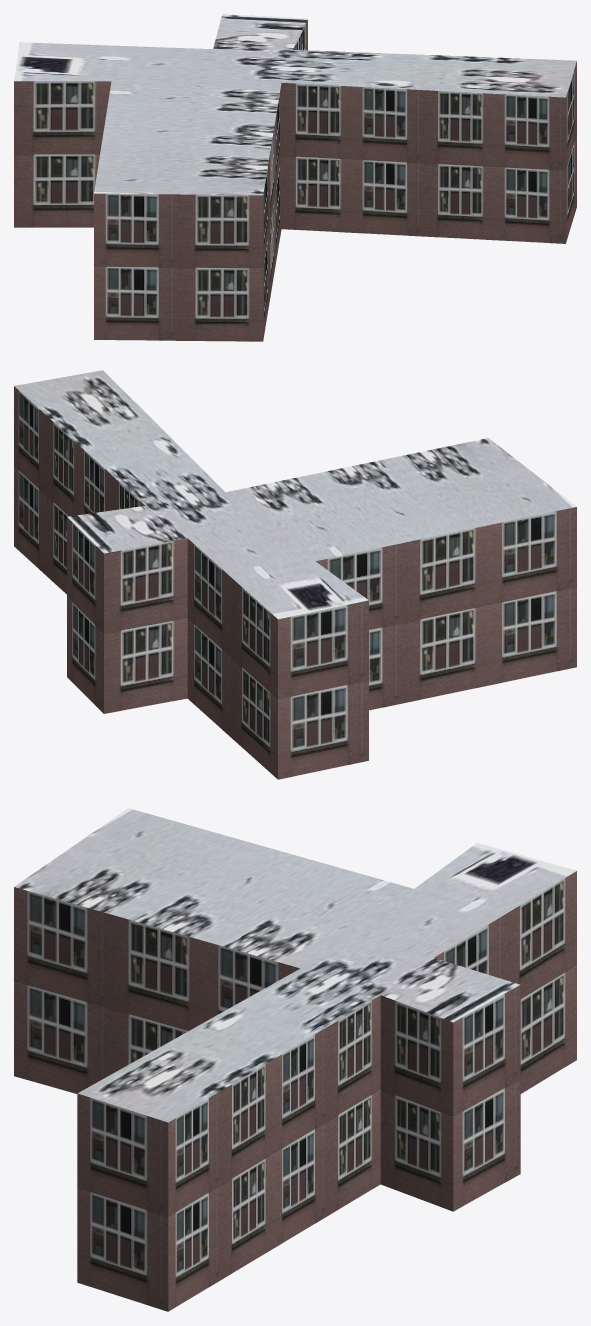
File: ResTex__2725.fbx
3 renders of one model, top to bottom at view 1: azimuth 30°, elevation 25°; view 2: azimuth 150°, elevation 25°; view 3: azimuth 270°, elevation 25°, orthographic. The views are drawn at different scales.
Parts seen in each view (by area): view 1: CityEngineMaterial_12_m, CityEngineMaterial_4_m; view 2: CityEngineMaterial_12_m, CityEngineMaterial_4_m; view 3: CityEngineMaterial_12_m, CityEngineMaterial_4_m.
Boxes of the visible parts, box(x1,y1,x2,y2) form: CityEngineMaterial_12_m: box(14, 19, 576, 341); CityEngineMaterial_4_m: box(14, 14, 576, 195); CityEngineMaterial_12_m: box(14, 386, 576, 779); CityEngineMaterial_4_m: box(14, 370, 576, 619); CityEngineMaterial_12_m: box(14, 871, 576, 1311); CityEngineMaterial_4_m: box(14, 808, 576, 1122).
Size of the model in its own units: 21.38 by 6 by 16.17.
Materials: 2 (2 with a texture image).
